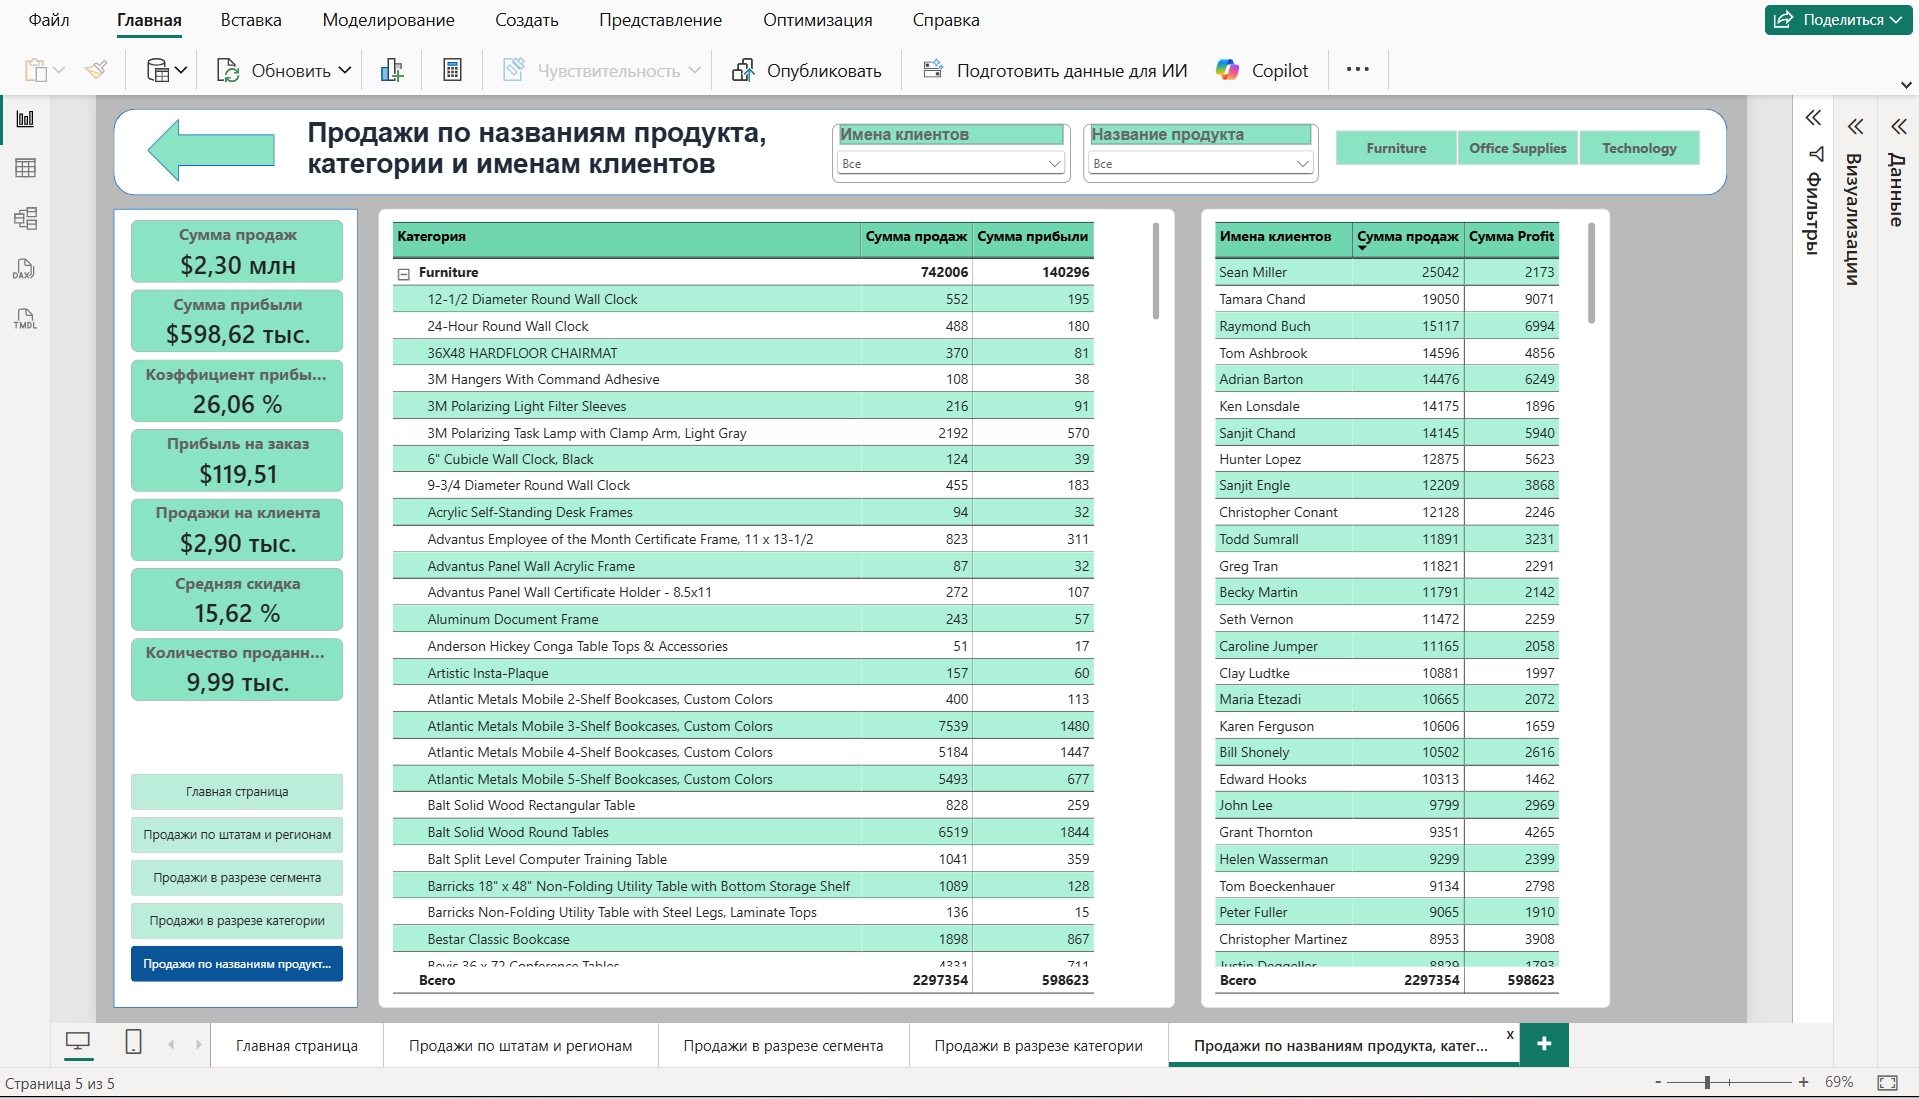

The page's visual inventory and layout, read from the dashboard file:
{"tool":"powerbi","page":{"name":"Продажи по названиям продукта, категории и именам клиентов ","canvas":[1920,1080],"ordinal":4},"visuals":[{"type":"pivotTable","fields":{"Rows":["Sample - Superstore_Orders.Category","Sample - Superstore_Orders.Product Name"],"Values":["Sum(Sample - Superstore_Orders.Sales)","Sum(Sample - Superstore_Orders.Profit)"]},"box":[327.9,132.6,926.2,929.7],"z":0},{"type":"shape","box":[20.6,16.5,1877.2,100.9],"z":1000},{"type":"textbox","box":[245.9,26.2,582.5,84.4],"z":2000},{"type":"slicer","title":"Категория","fields":{"Values":["Sample - Superstore_Orders.Category"]},"box":[1422.2,38.9,462.2,43.6],"z":3000},{"type":"slicer","fields":{"Values":["Sample - Superstore_Orders.Product Name"]},"box":[1148.3,33.6,273.8,68.9],"z":4000},{"type":"pivotTable","fields":{"Values":["Sum(Sample - Superstore_Orders.Sales)","Sum(Sample - Superstore_Orders.Profit)"],"Rows":["Sample - Superstore_Orders.Customer Name"]},"box":[1285.5,132.6,476.2,929.7],"z":5000},{"type":"slicer","fields":{"Values":["Sample - Superstore_Orders.Customer Name"]},"box":[856.8,33.6,277.4,68.9],"z":6000},{"type":"shape","box":[20.9,132.6,284.3,929.7],"z":7000},{"type":"cardVisual","fields":{"Data":["Меры.Сумма продаж","Меры.Сумма прибыли","Меры.Коефкоэффициент прибыли","Меры.прибыль на заказ","Меры.продажи на клиента","Меры.средняя скидка","CountNonNull(Sample - Superstore_Orders.Quantity)"]},"box":[40.1,144.8,247.7,563.4],"z":8000},{"type":"shape","box":[59.3,27.9,148.3,73.3],"z":9000},{"type":"pageNavigator","box":[40.1,790.1,247.7,245.9],"z":10000}]}

Visuals, with their boxes on the page's 1920x1080 design canvas (x1, y1, x2, y2). These are canvas units, not pixel positions in the 1919x1099 screenshot, which may show the page scaled, cropped or inside an application window:
pivotTable - Sample - Superstore_Orders.Category x Sample - Superstore_Orders.Product Name: bbox(328, 133, 1254, 1062)
shape: bbox(21, 16, 1898, 117)
textbox: bbox(246, 26, 828, 111)
"Категория" slicer: bbox(1422, 39, 1884, 82)
slicer - Sample - Superstore_Orders.Product Name: bbox(1148, 34, 1422, 102)
pivotTable - Sum(Sample - Superstore_Orders.Sales) x Sum(Sample - Superstore_Orders.Profit): bbox(1286, 133, 1762, 1062)
slicer - Sample - Superstore_Orders.Customer Name: bbox(857, 34, 1134, 102)
shape: bbox(21, 133, 305, 1062)
cardVisual - Меры.Сумма продаж x Меры.Сумма прибыли: bbox(40, 145, 288, 708)
shape: bbox(59, 28, 208, 101)
pageNavigator: bbox(40, 790, 288, 1036)
